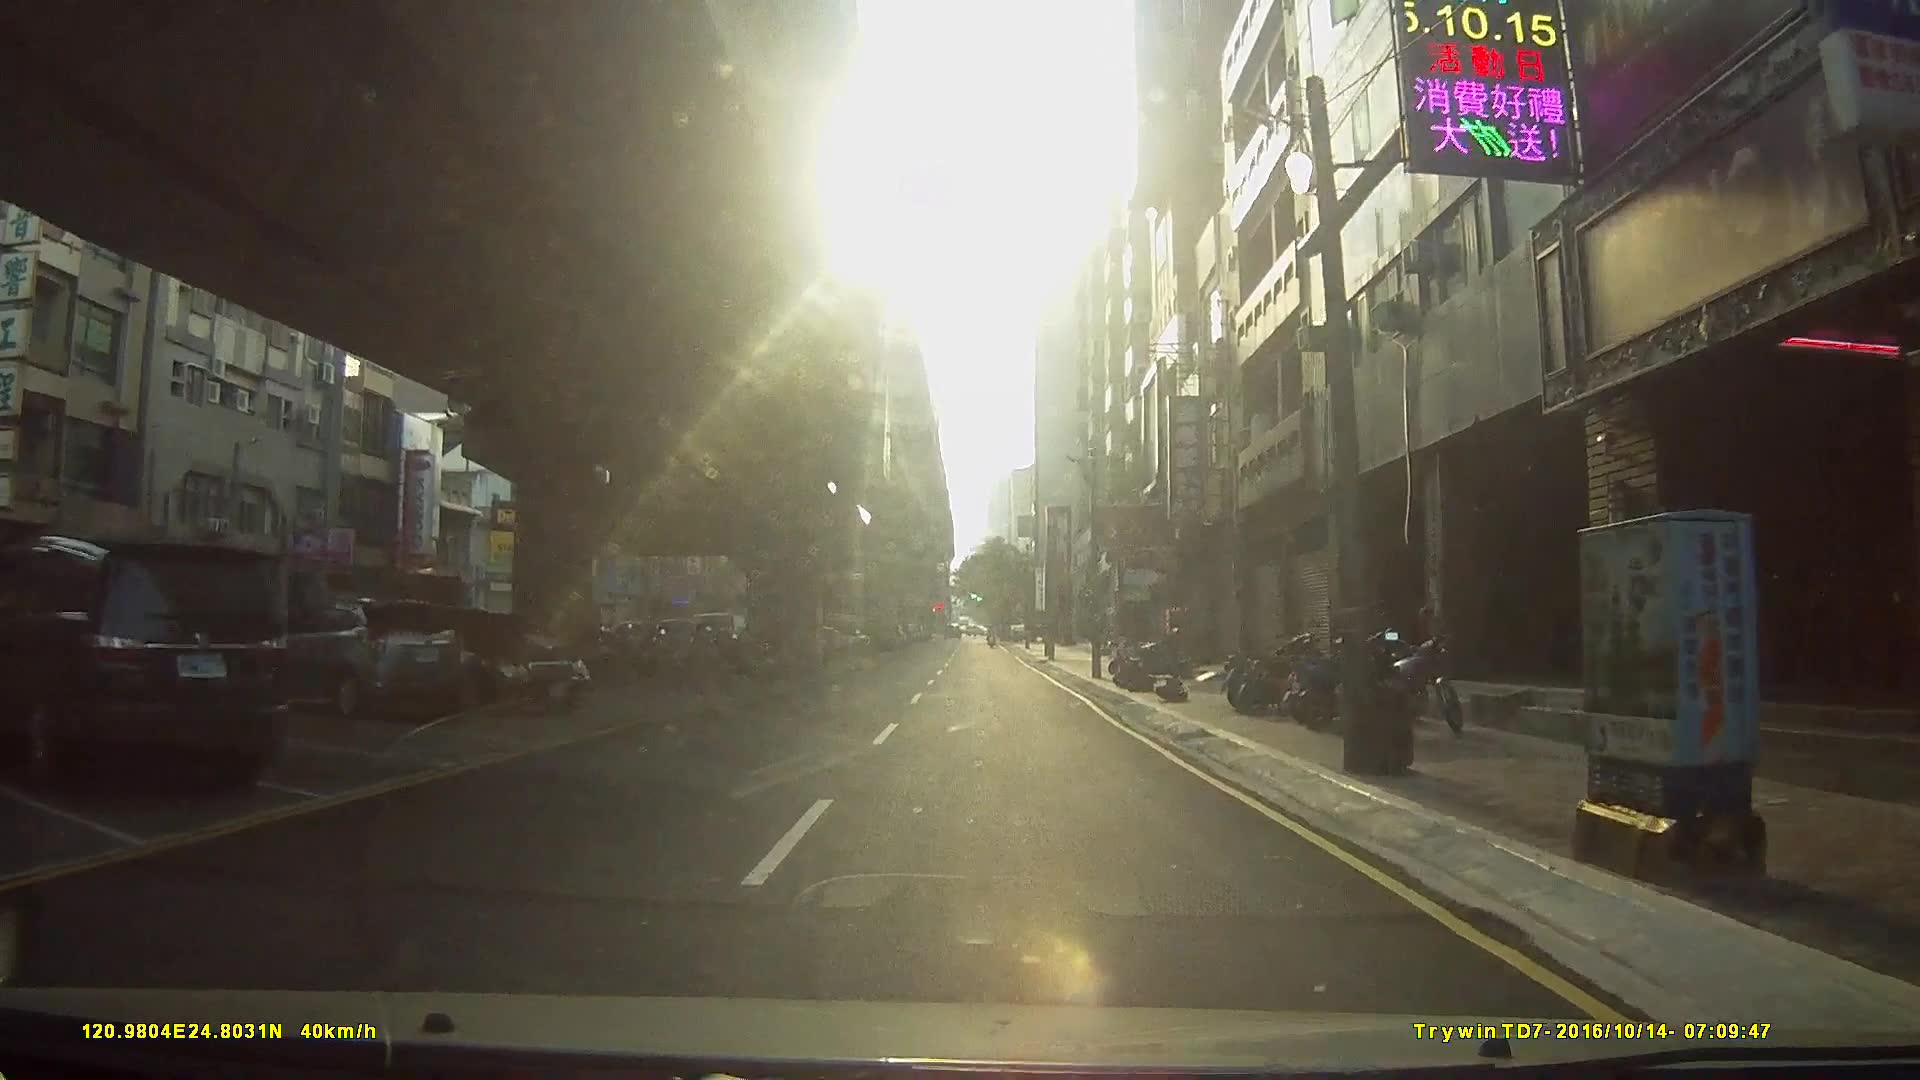vehicle: (0, 534, 287, 794), (241, 597, 462, 720), (348, 611, 587, 716)
